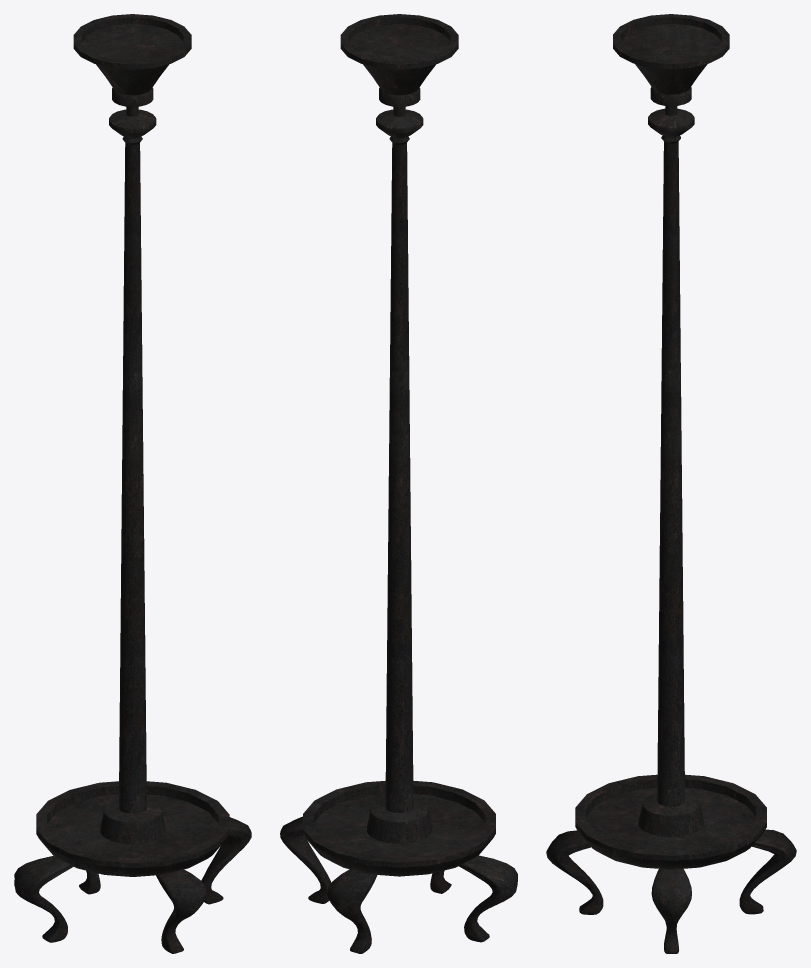
File: Lamp 1.FBX
3 views of the same model, side by side, from view 1: azimuth 30°, elevation 25°; view 2: azimuth 150°, elevation 25°; view 3: azimuth 270°, elevation 25° (orthographic).
Visible parts, largest first — view 1: Lamp 1; view 2: Lamp 1; view 3: Lamp 1.
Part boxes in pixels (x1,y1,x2,y2): Lamp 1: (14, 14, 251, 953); Lamp 1: (280, 14, 517, 953); Lamp 1: (546, 14, 796, 953).
Bounding box in the file's own units: 45.84 × 164 × 42.65.
1 material, 1 textured.
